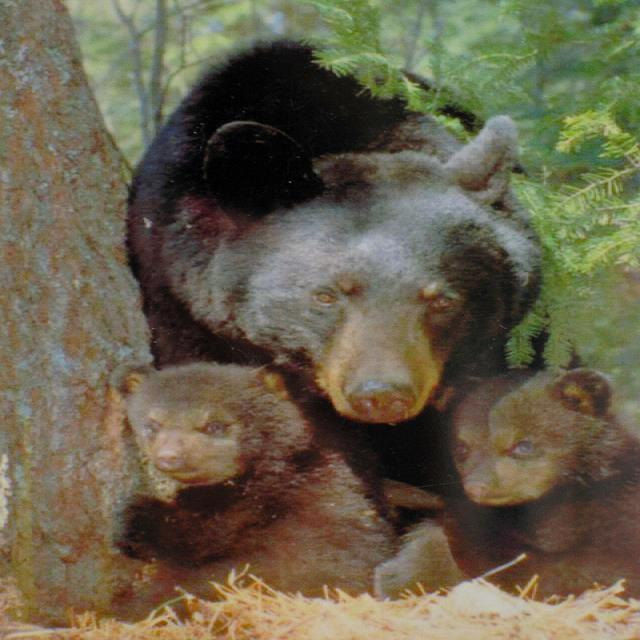Bear: (140, 26, 562, 418)
